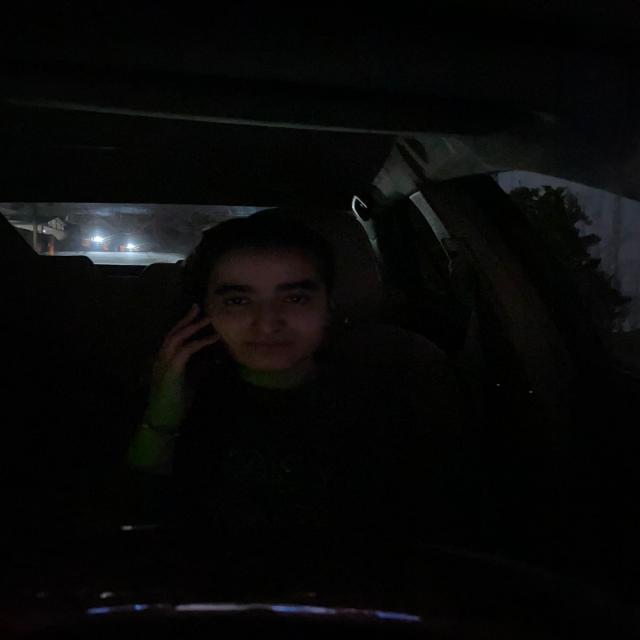mobile: (182, 298, 231, 399)
person: (207, 234, 361, 381)
